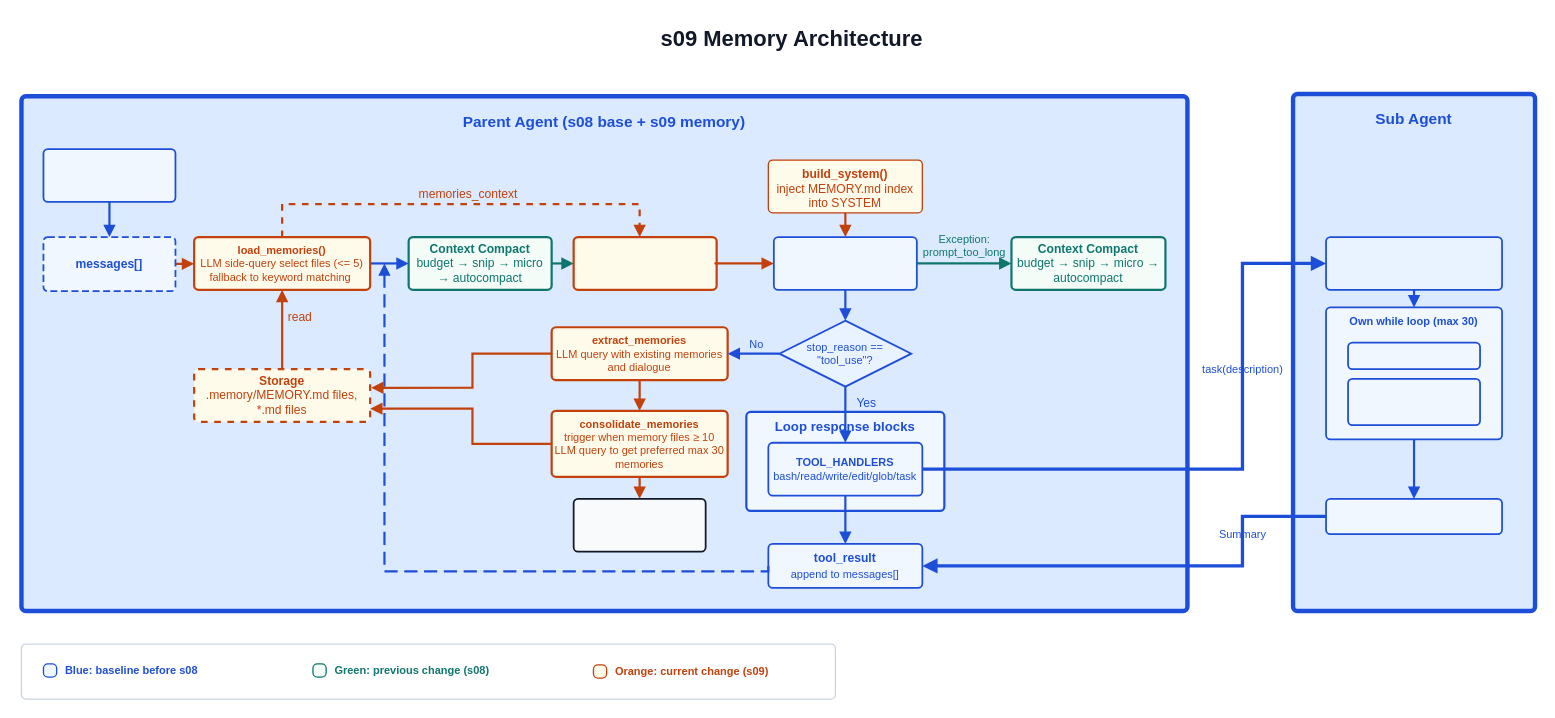
This 1555x718 diagram has some shape labels left out. Each missing label, with the centre of its shape:
"Inject memories inject memory file contents" goes at point 644,262.
"LLM" goes at point 1413,355.
"LLM (content + stop_reason)" goes at point 844,263.
"Return Result Loop ends" goes at point 639,524.
"Sub messages[] (fresh content, no parent history)" goes at point 1413,263.
"summary only back to parent" goes at point 1413,515.
"TOOL_HANDLERS bash/read/write/edit/glob" goes at point 1413,401.
"User Query" goes at point 109,175.
